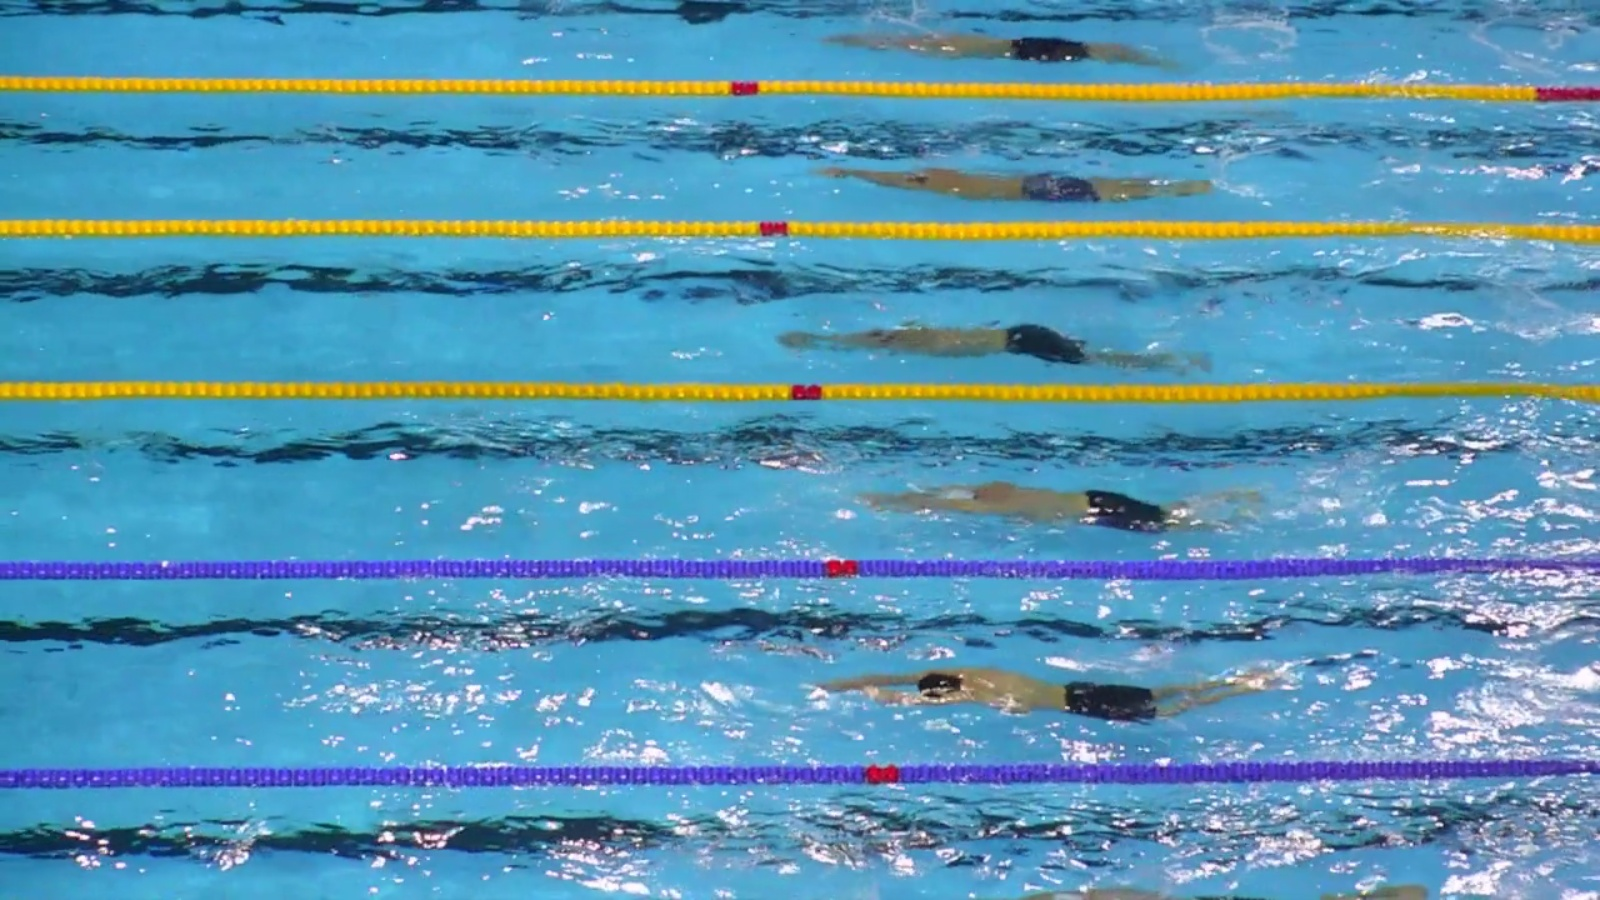swimmer: (1018, 884, 1437, 900)
swimmerw: (815, 664, 1301, 725), (853, 481, 1286, 544), (773, 327, 1230, 377), (811, 160, 1215, 213), (814, 32, 1167, 67)
